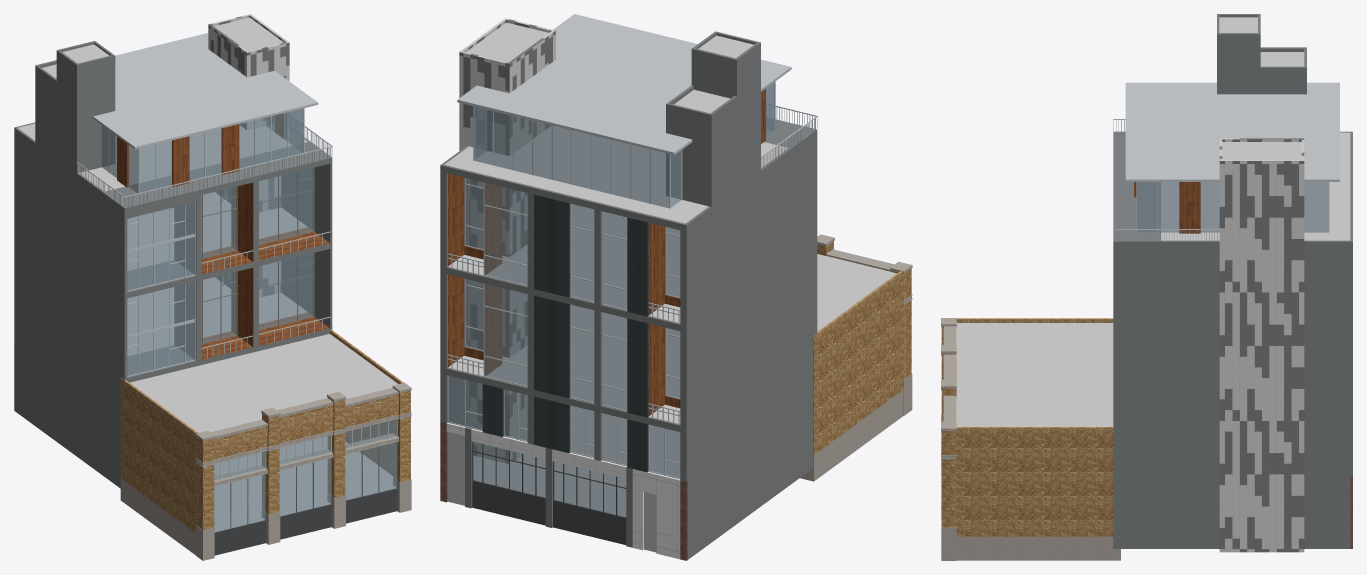
File: A23_Building09.fbx
The picture shows the model from 3 angles, left to right: view 1: azimuth 30°, elevation 25°; view 2: azimuth 150°, elevation 25°; view 3: azimuth 270°, elevation 25°; orthographic projection. The views are drawn at different scales.
Visible parts, largest first — view 1: BD1657, BD1656; view 2: BD1657, BD1656; view 3: BD1657, BD1656.
Part boxes in pixels (x1=…): BD1657: x1=14, y1=14, x2=332, y2=488; BD1656: x1=120, y1=330, x2=411, y2=560; BD1657: x1=440, y1=14, x2=817, y2=560; BD1656: x1=800, y1=234, x2=912, y2=481; BD1657: x1=1113, y1=14, x2=1352, y2=552; BD1656: x1=941, y1=318, x2=1120, y2=560.
Bounding box in the file's own units: 20.28 × 36.27 × 30.97.
